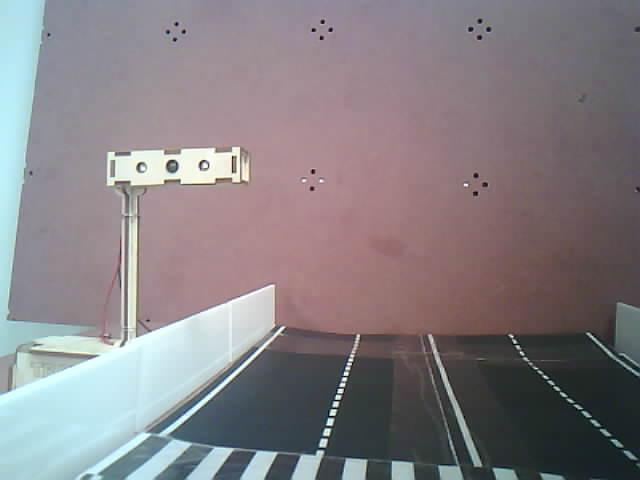crosswalk: (50, 412, 640, 480)
no: (84, 126, 264, 218)
